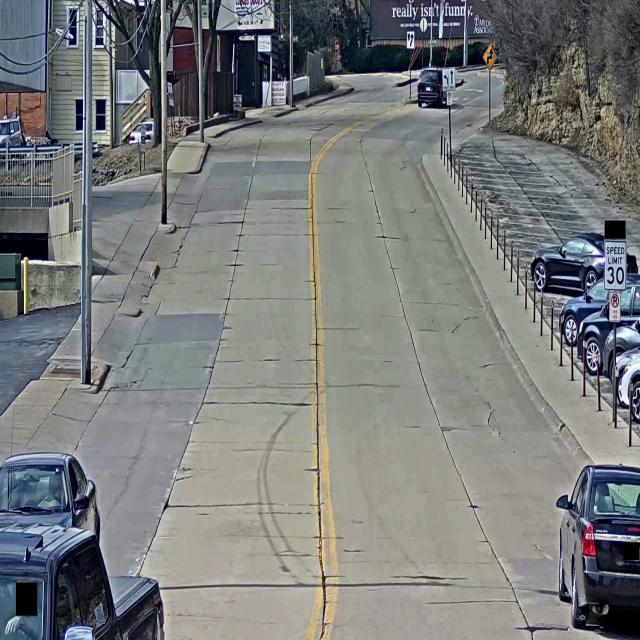car: (0, 524, 165, 640), (556, 465, 640, 636), (0, 454, 100, 544), (530, 233, 638, 292), (558, 273, 640, 346), (577, 280, 640, 375), (602, 318, 640, 386), (611, 346, 640, 410), (621, 357, 640, 423), (417, 68, 447, 106), (0, 119, 24, 158), (129, 120, 155, 145)
